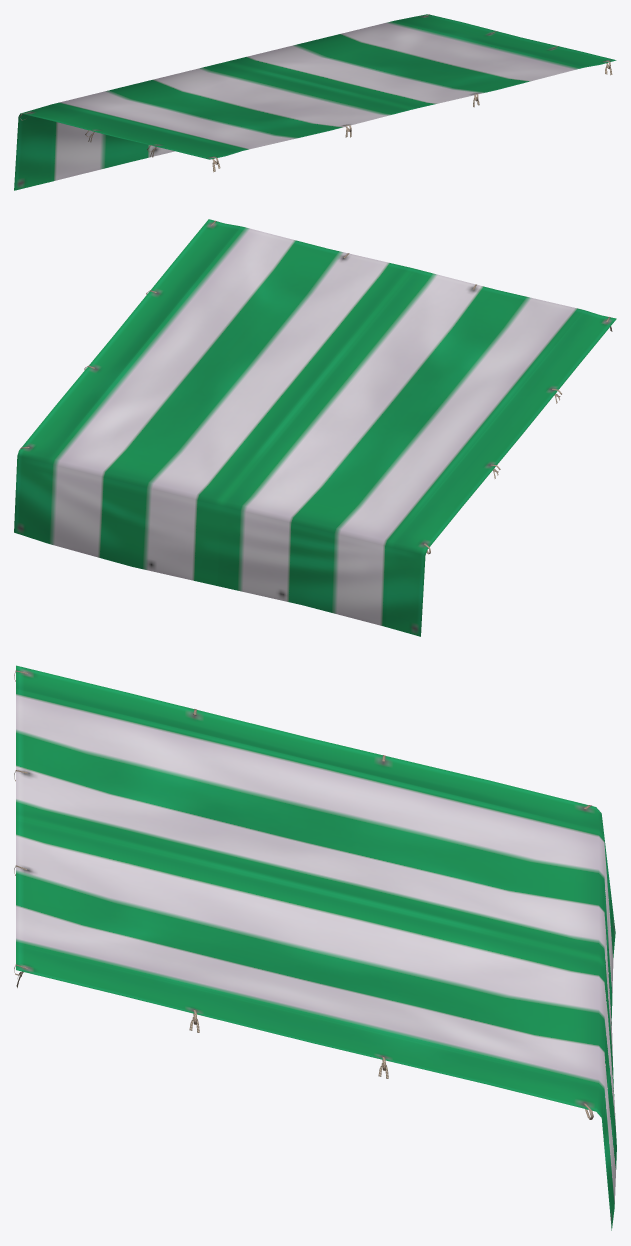
Rendered from jsf_Ceiling_s02_c04_t01.fbx.
3 renders of one model, top to bottom at view 1: azimuth 30°, elevation 25°; view 2: azimuth 150°, elevation 25°; view 3: azimuth 270°, elevation 25°, orthographic. The views are drawn at different scales.
Parts seen in each view (by area): view 1: jsf_Ceiling_s02_c04_t01; view 2: jsf_Ceiling_s02_c04_t01; view 3: jsf_Ceiling_s02_c04_t01.
Boxes of the visible parts, x1,y1,x2,y2 form: jsf_Ceiling_s02_c04_t01: [14, 14, 616, 190]; jsf_Ceiling_s02_c04_t01: [14, 219, 616, 636]; jsf_Ceiling_s02_c04_t01: [14, 665, 616, 1230].
Size of the model in its own units: 263 by 106 by 216.
